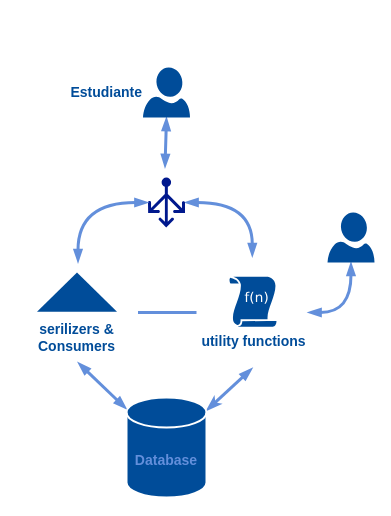
Some shapes in this 391 by 516 pixel diagram are drawn without their labels. Each missing label, with the box of its shape:
Asistente: (327, 212, 374, 262)
View: (148, 177, 184, 227)
